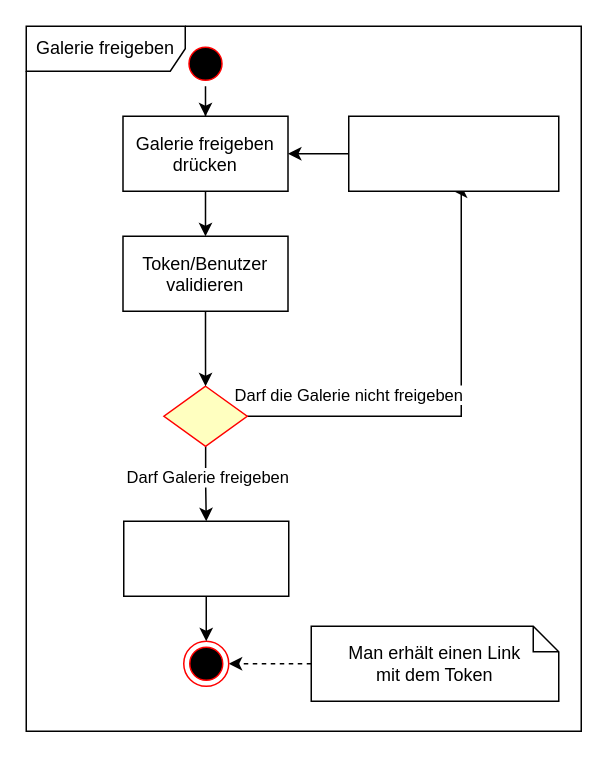
Image size: 608x758. Some labels were removed from this diagram. Here are the shapes that lost their labels. From the top down, the box of each, then its label:
(347, 115, 559, 191): Fehlermeldung anzeigen
(122, 520, 289, 596): Token generieren
